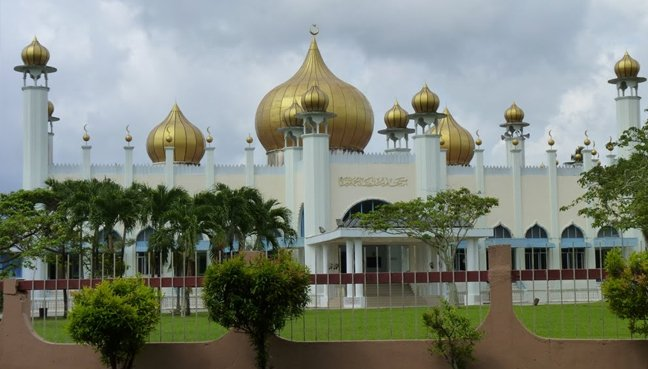Mosque: (10, 17, 637, 239)
